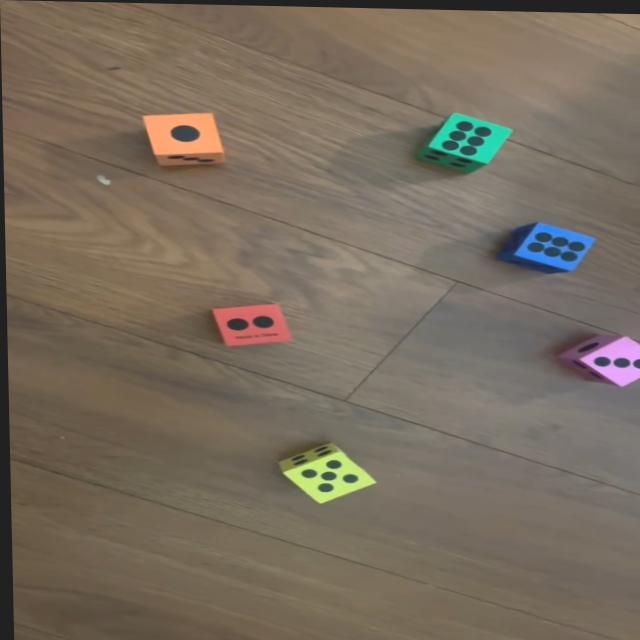cube: (415, 108, 516, 172), (493, 217, 596, 271), (211, 302, 286, 345)
